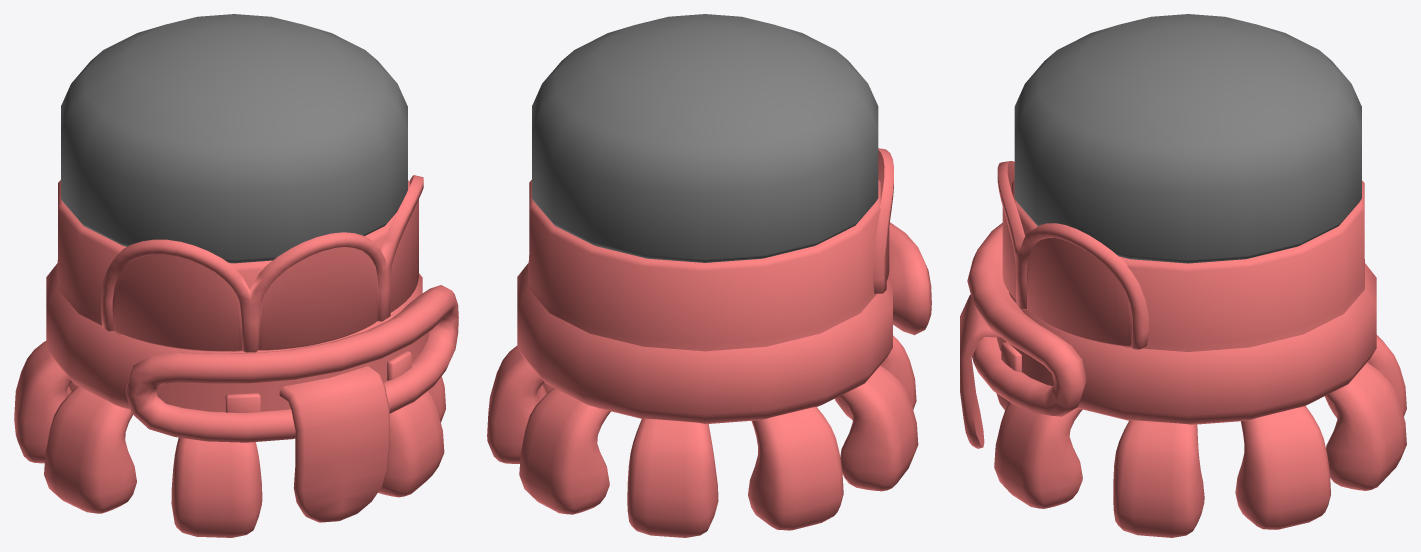
File: BabyLicky.fbx
3 renders of one model, left to right at view 1: azimuth 30°, elevation 25°; view 2: azimuth 150°, elevation 25°; view 3: azimuth 270°, elevation 25°, orthographic.
Parts seen in each view (by area): view 1: Copula, Head, Body, Legs, Tongue; view 2: Copula, Legs, Head, Body; view 3: Copula, Legs, Head, Body, Tongue.
Part boxes in pixels (bbox=[...]): Copula: bbox=[61, 14, 407, 263]; Head: bbox=[57, 175, 423, 352]; Body: bbox=[46, 263, 458, 442]; Legs: bbox=[14, 341, 445, 537]; Tongue: bbox=[279, 366, 389, 522]; Copula: bbox=[532, 14, 878, 262]; Legs: bbox=[487, 335, 918, 537]; Head: bbox=[528, 148, 893, 351]; Body: bbox=[517, 222, 931, 424]; Copula: bbox=[1014, 14, 1361, 263]; Legs: bbox=[994, 335, 1406, 537]; Head: bbox=[997, 161, 1364, 351]; Body: bbox=[967, 223, 1376, 424]; Tongue: bbox=[960, 294, 1000, 448].
Bounding box in the file's own units: 0.086 × 0.0885 × 0.0871.
